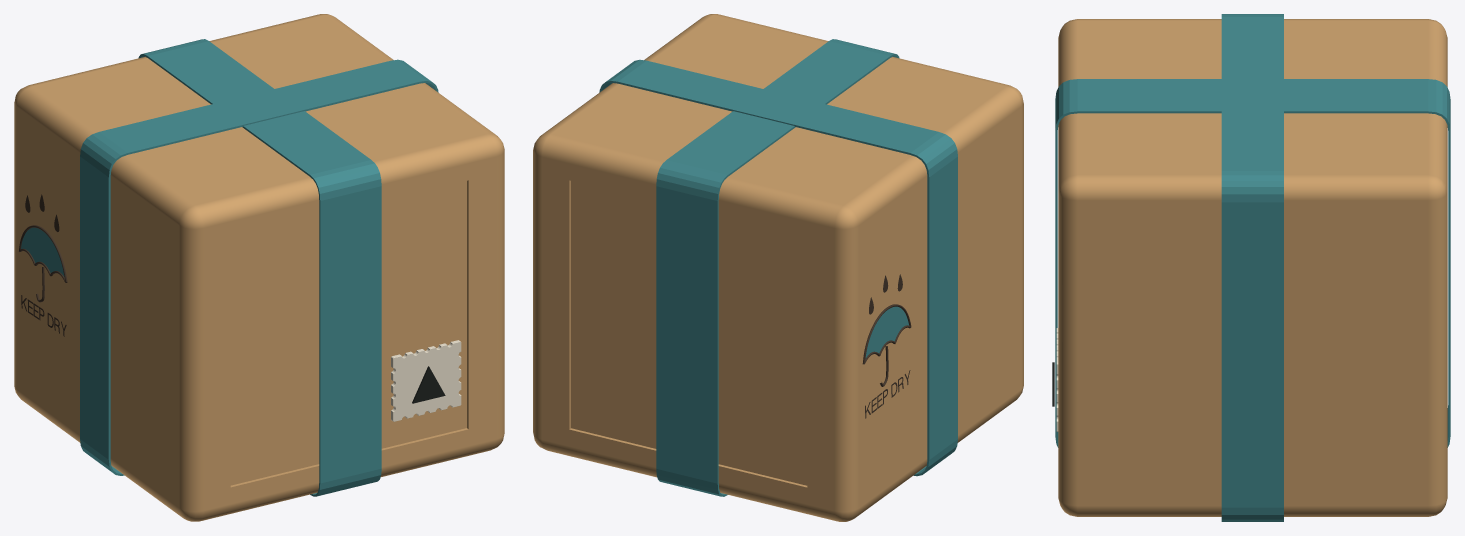
File: play-parcel-small-teal.glb
3 views of the same model, side by side, from view 1: azimuth 30°, elevation 25°; view 2: azimuth 150°, elevation 25°; view 3: azimuth 270°, elevation 25° (orthographic). The views are drawn at different scales.
Parts seen in each view (by area): view 1: Parcel_Carton, Parcel_Tape_Continuous_Front_Back, Parcel_Tape_Continuous_Left_Right, Parcel_Paper_Label, Parcel_Care_Umbrella_Canopy, Parcel_Label_Triangle; view 2: Parcel_Carton, Parcel_Tape_Continuous_Front_Back, Parcel_Tape_Continuous_Left_Right, Parcel_Care_Umbrella_Canopy; view 3: Parcel_Carton, Parcel_Tape_Continuous_Left_Right, Parcel_Tape_Continuous_Front_Back.
Boxes of the visible parts, x1,y1,x2,y2 form: Parcel_Carton: (14, 14, 504, 521); Parcel_Tape_Continuous_Front_Back: (138, 39, 381, 496); Parcel_Tape_Continuous_Left_Right: (80, 59, 438, 475); Parcel_Paper_Label: (391, 340, 461, 421); Parcel_Care_Umbrella_Canopy: (21, 227, 64, 276); Parcel_Label_Triangle: (412, 366, 445, 403); Parcel_Carton: (533, 14, 1023, 521); Parcel_Tape_Continuous_Front_Back: (656, 39, 899, 496); Parcel_Tape_Continuous_Left_Right: (599, 59, 957, 476); Parcel_Care_Umbrella_Canopy: (865, 306, 909, 358); Parcel_Carton: (1058, 19, 1447, 516); Parcel_Tape_Continuous_Left_Right: (1221, 14, 1283, 521); Parcel_Tape_Continuous_Front_Back: (1055, 79, 1450, 447).
Bounding box in the file's own units: 0.148 × 0.138 × 0.1431.
